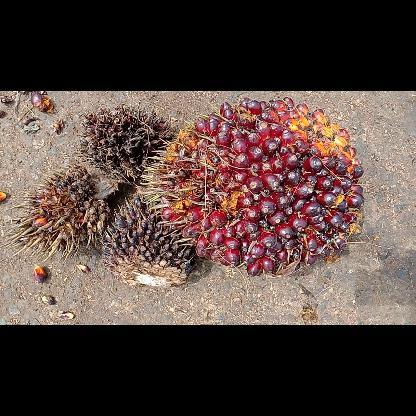TBS abnormal: (7, 164, 110, 260), (102, 193, 200, 289), (76, 106, 174, 182)
TBS masak: (143, 96, 367, 280)
